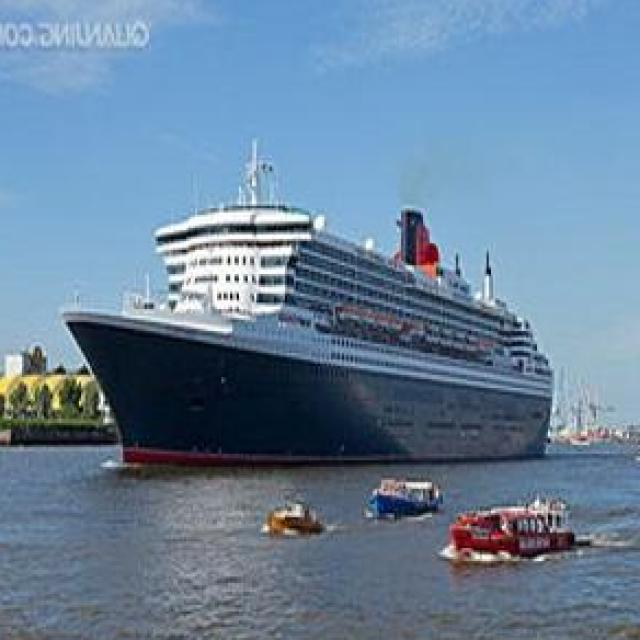houseboat: (456, 488, 583, 565), (371, 468, 444, 516), (269, 495, 324, 535)
passenger ship: (70, 178, 560, 473)
